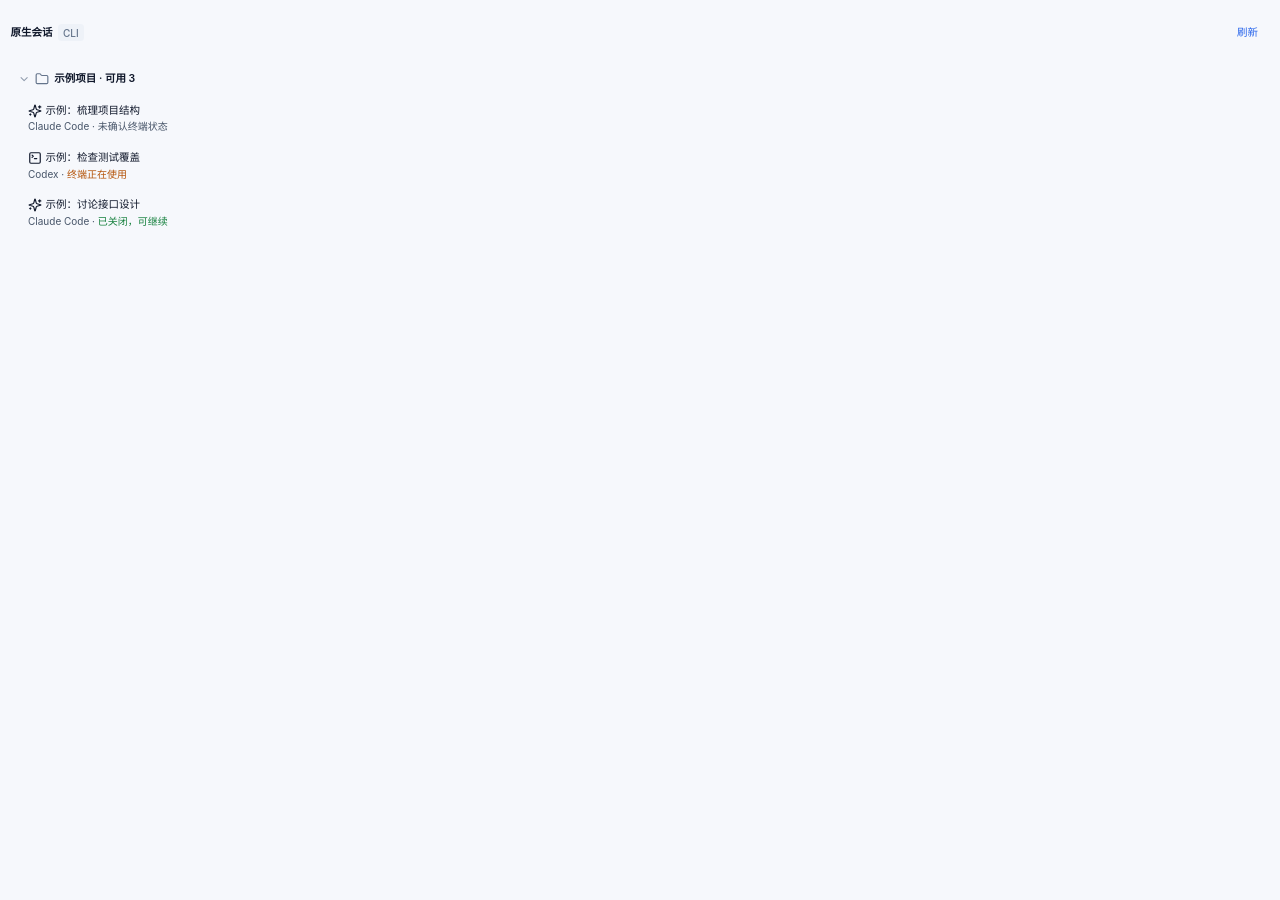
R3 native sessions › does not treat an accepted import as failed at the delivery deadline
Click the button "示例：梳理项目结构 Claude Code · 未确认终端状态" at (93, 110), box [18,96,1270,140]
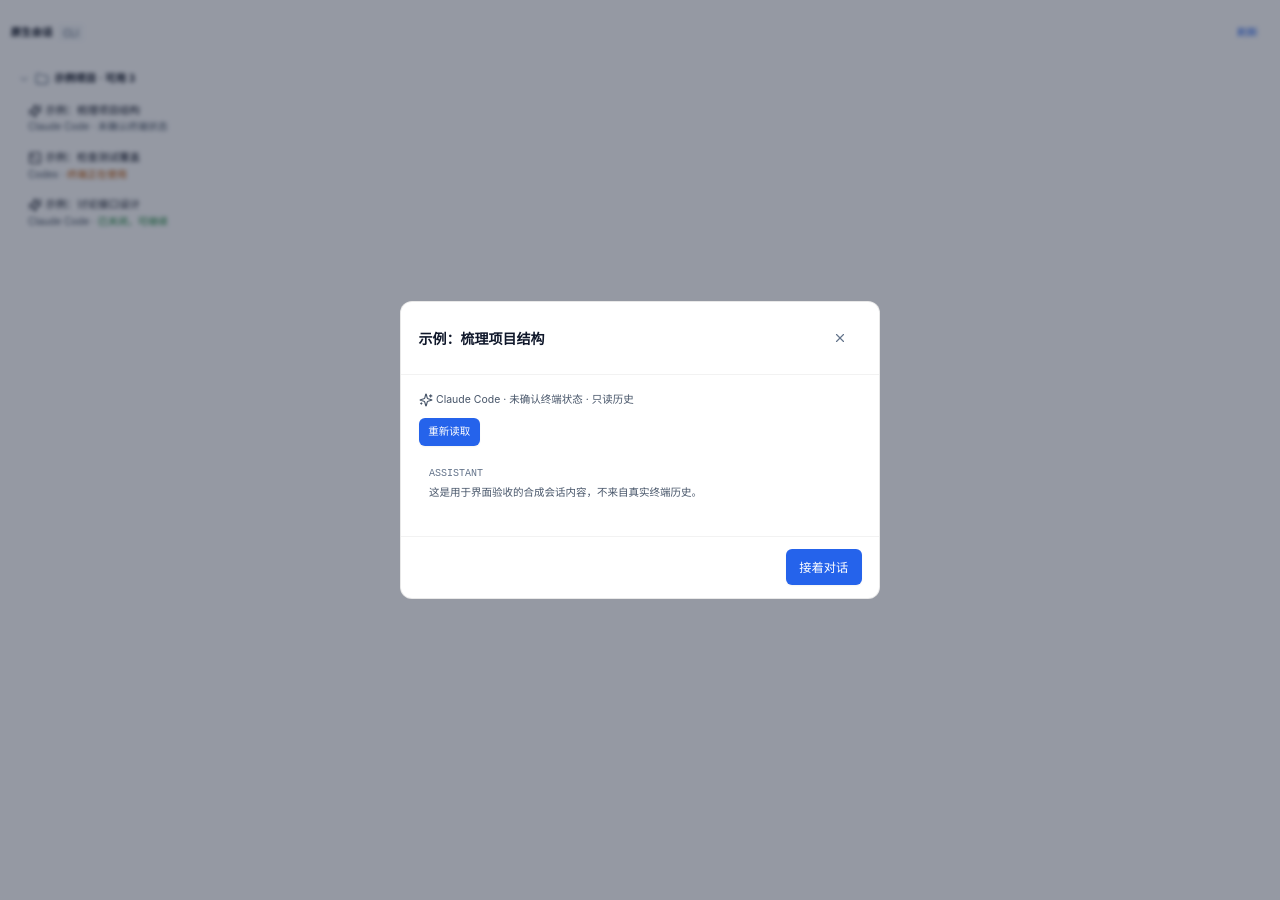
Click the button "接着对话" at (824, 567), box [786,549,862,585]
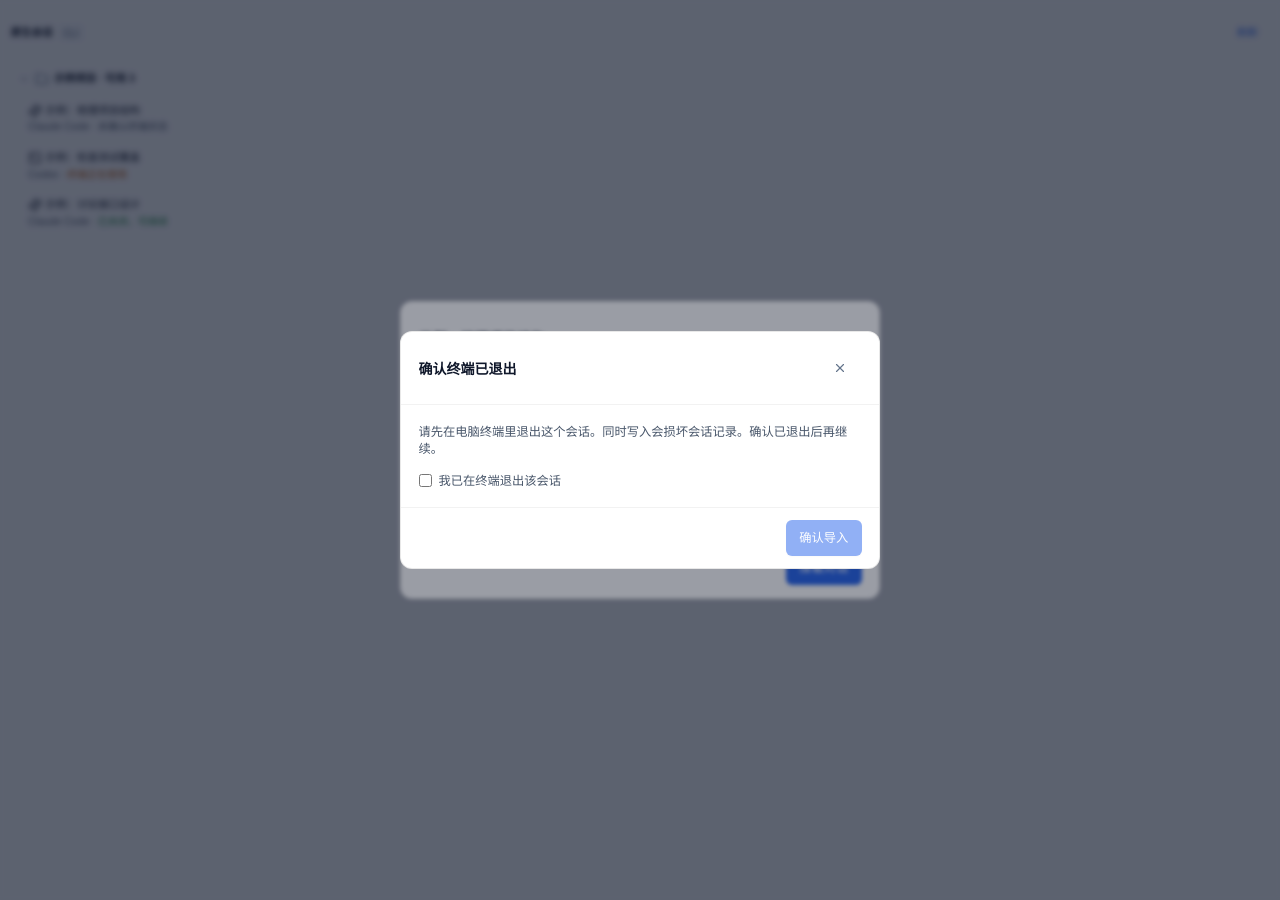
Click the checkbox labelled "我已在终端退出该会话" at (425, 480), box [418,472,432,489]
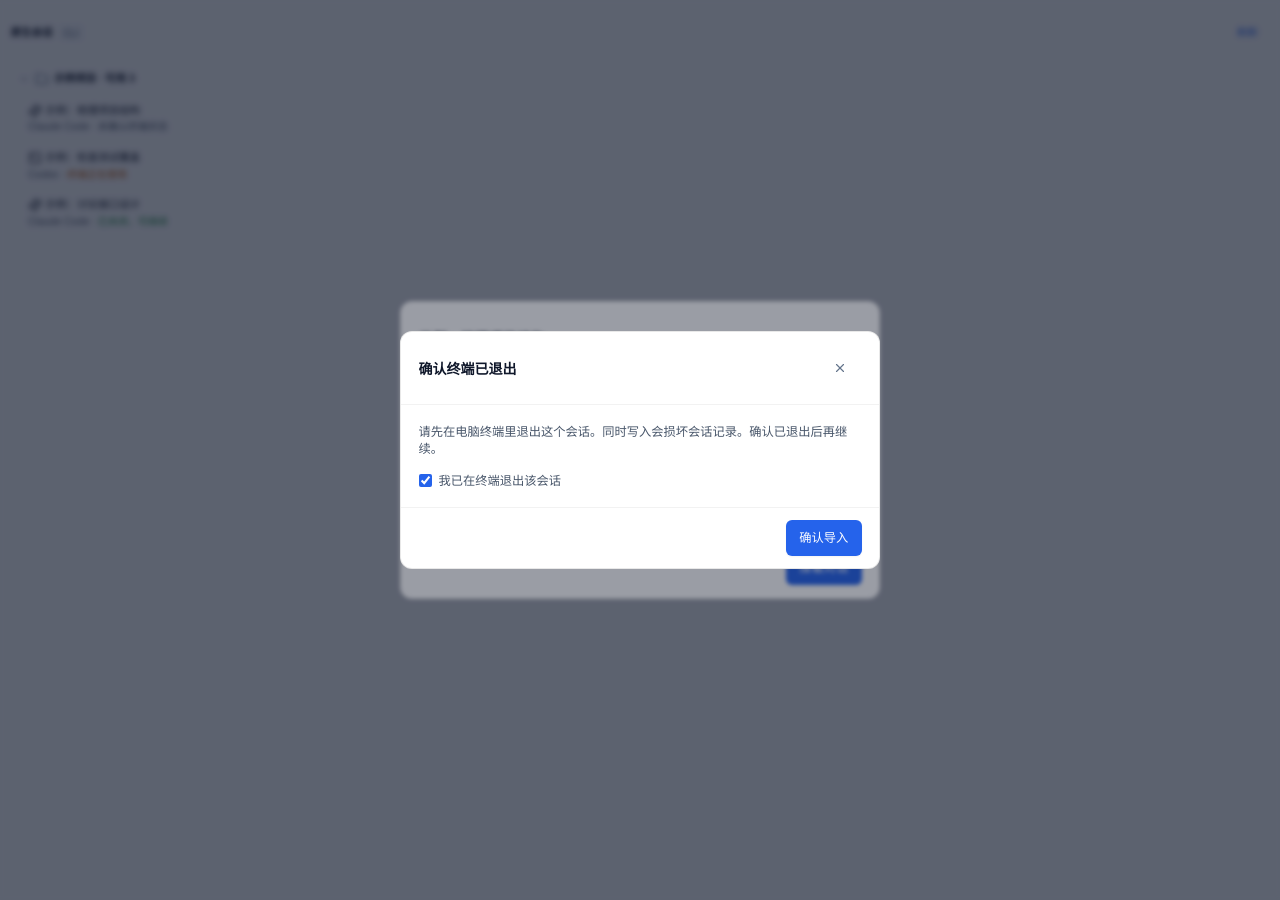
Click the button "确认导入" at (824, 538), box [786,520,862,556]
Wait 31000 ms
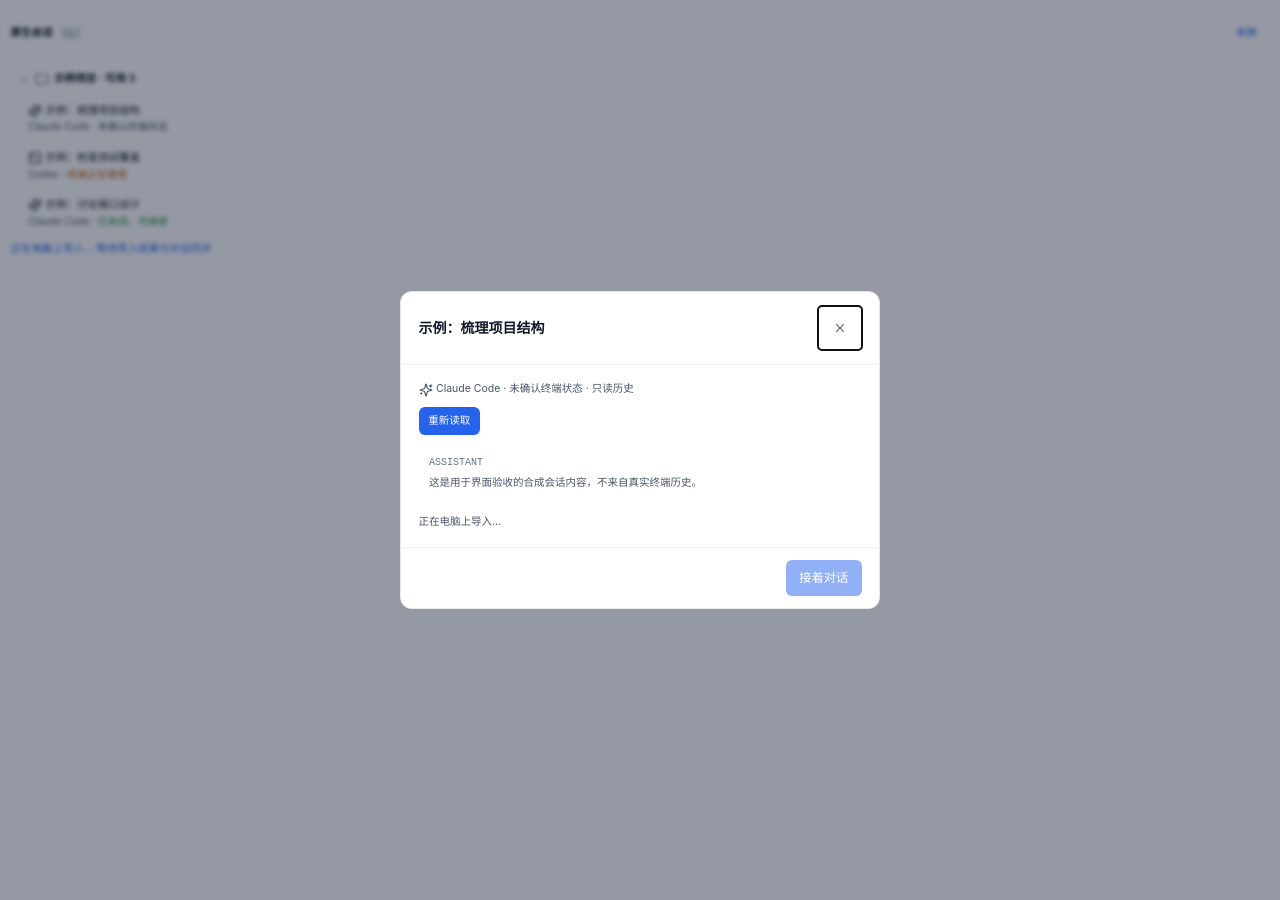
Expected: the text "正在电脑上导入…" is shown, [10,242,212,255]
